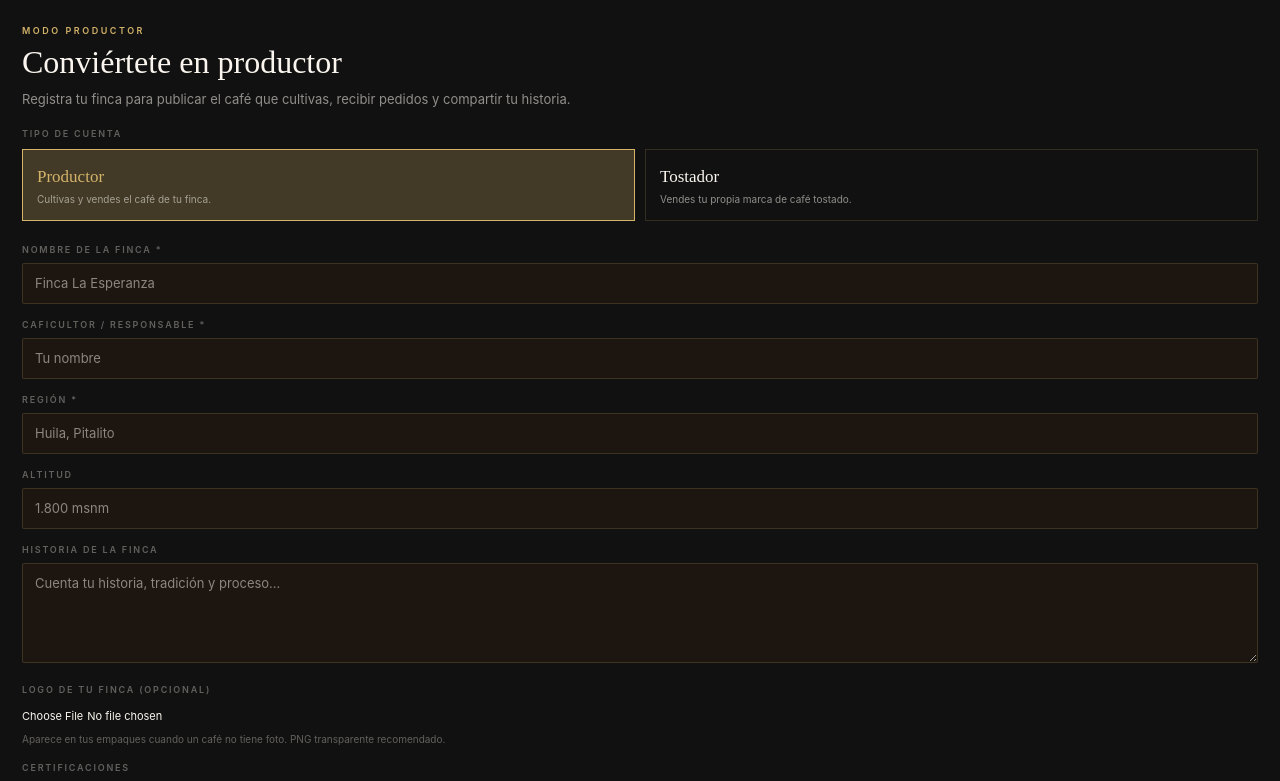
it: SellerOnboarding › cambia los textos al elegir el rol Tostador
Click the text "Tostador".
click(690, 176)  # box [660, 167, 719, 186]
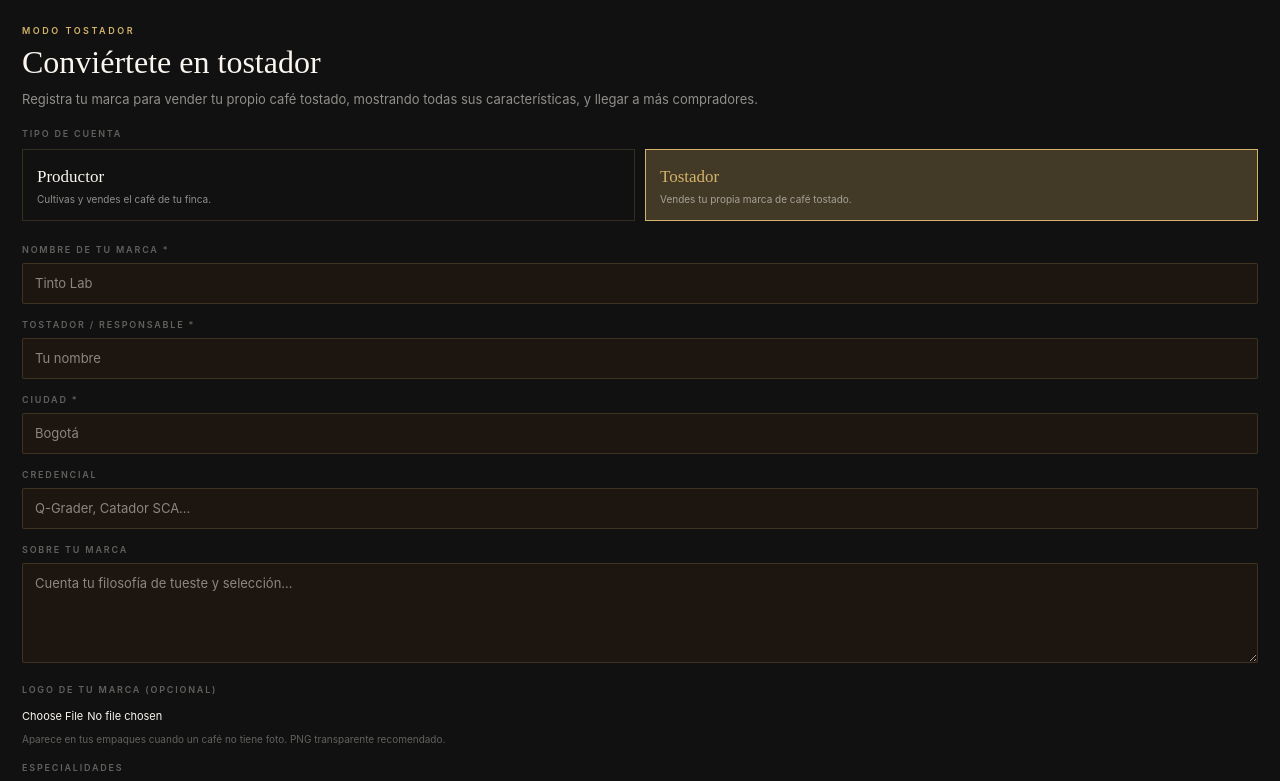
Expected: the field with placeholder "Tinto Lab" is shown, [22, 263, 1258, 304]
